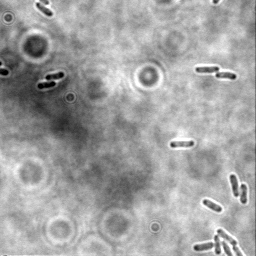Microcolony: (193, 227, 245, 255)
Rod: (34, 1, 55, 18), (202, 197, 224, 213), (229, 173, 241, 198), (169, 138, 196, 149), (45, 71, 66, 83), (36, 80, 57, 91), (239, 183, 249, 205), (194, 66, 221, 74), (214, 71, 238, 80)
